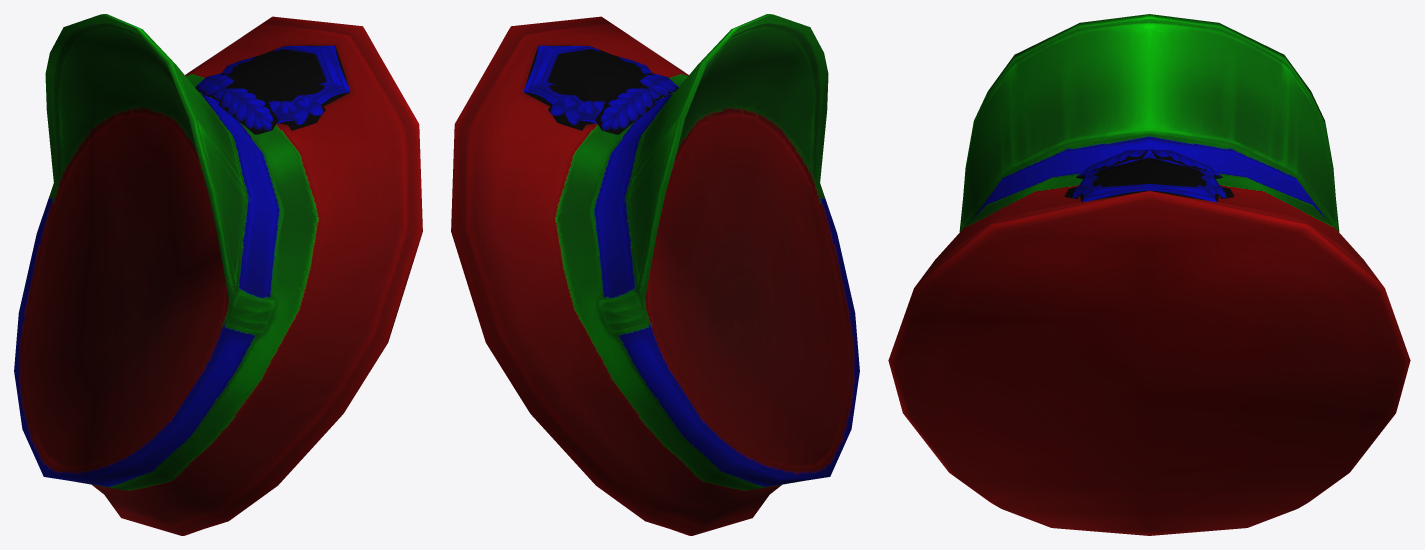
The picture shows the model from 3 angles, left to right: view 1: azimuth 30°, elevation 25°; view 2: azimuth 150°, elevation 25°; view 3: azimuth 270°, elevation 25°; orthographic projection. The views are drawn at different scales.
Visible parts, largest first — view 1: L1150; view 2: L1150; view 3: L1150.
Boxes of the visible parts, box(x1,y1,x2,y2) form: L1150: box(14, 14, 422, 535); L1150: box(451, 14, 859, 535); L1150: box(888, 14, 1410, 535).
Bounding box in the file's own units: 0.4594 × 0.6646 × 0.5976.
